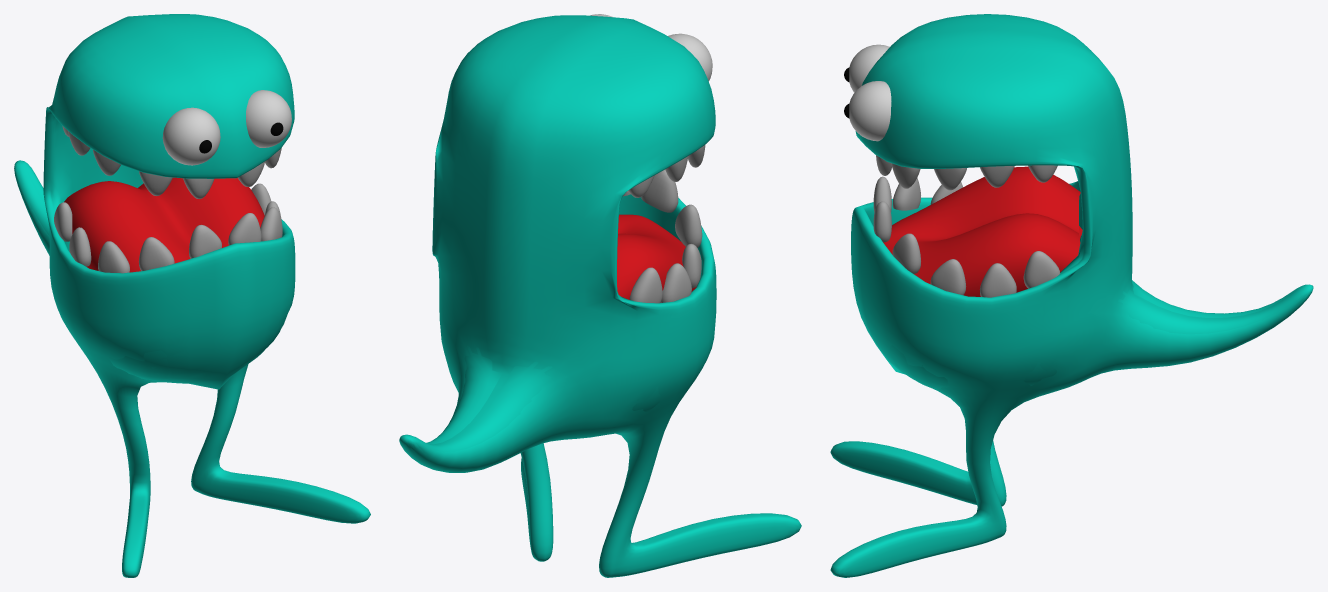
The model's file is bluemonster.obj.
3 renders of one model, left to right at view 1: azimuth 30°, elevation 25°; view 2: azimuth 150°, elevation 25°; view 3: azimuth 270°, elevation 25°, orthographic. The views are drawn at different scales.
Visible parts, largest first — view 1: Cube, Cube.001, Sphere, Cube.003, Cube.008, Cube.010, Cube.009, Cube.002, Cube.004, Cube.011; view 2: Cube, Cube.001, Cube.003, Cube.008, Cube.011, Cube.010, Sphere, Cube.009; view 3: Cube, Cube.001, Sphere, Cube.008, Cube.009, Cube.003, Cube.010, Cube.011.
Boxes of the visible parts, x1=… form: Cube: x1=14, y1=14, x2=370, y2=577; Cube.001: x1=64, y1=177, x2=264, y2=272; Sphere: x1=162, y1=90, x2=291, y2=165; Cube.003: x1=189, y1=213, x2=261, y2=258; Cube.008: x1=138, y1=207, x2=282, y2=271; Cube.010: x1=69, y1=183, x2=271, y2=266; Cube.009: x1=98, y1=201, x2=281, y2=273; Cube.002: x1=183, y1=161, x2=264, y2=198; Cube.004: x1=139, y1=148, x2=281, y2=195; Cube.011: x1=54, y1=202, x2=72, y2=241; Cube: x1=399, y1=15, x2=801, y2=577; Cube.001: x1=617, y1=214, x2=696, y2=299; Cube.003: x1=623, y1=169, x2=678, y2=212; Cube.008: x1=675, y1=204, x2=702, y2=247; Cube.011: x1=629, y1=267, x2=662, y2=303; Cube.010: x1=660, y1=263, x2=691, y2=302; Sphere: x1=590, y1=14, x2=712, y2=81; Cube.009: x1=682, y1=244, x2=701, y2=288; Cube: x1=830, y1=14, x2=1313, y2=577; Cube.001: x1=883, y1=166, x2=1082, y2=296; Sphere: x1=849, y1=44, x2=891, y2=141; Cube.008: x1=892, y1=178, x2=920, y2=273; Cube.009: x1=930, y1=182, x2=966, y2=295; Cube.003: x1=873, y1=176, x2=891, y2=242; Cube.010: x1=980, y1=263, x2=1016, y2=297; Cube.011: x1=1023, y1=251, x2=1060, y2=288.
Bounding box in the file's own units: 2.85 × 5.15 × 4.65.
